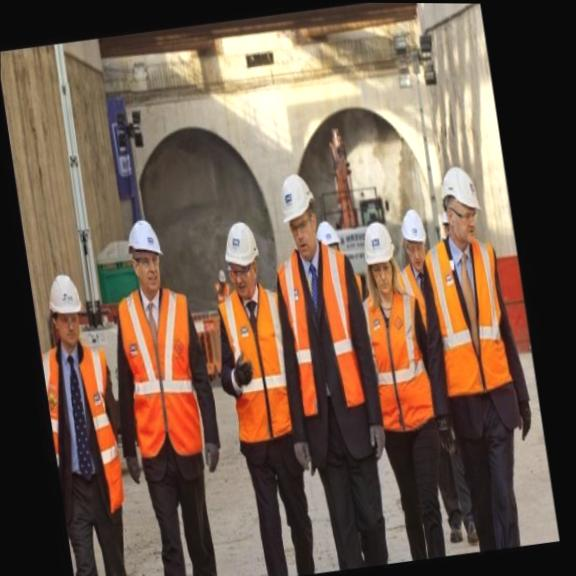safety_vest: (112, 287, 211, 472), (280, 241, 375, 424), (41, 348, 132, 534), (355, 287, 445, 449), (427, 240, 514, 399), (214, 286, 292, 460)
